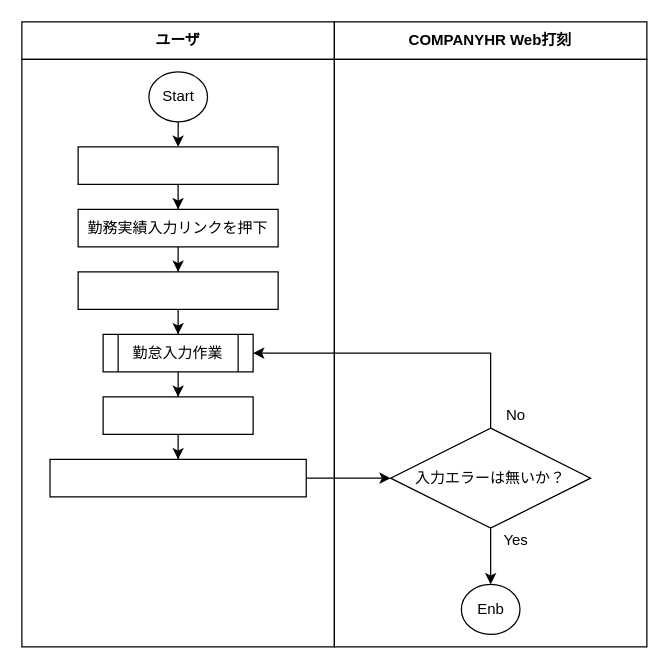
The diagram is 669 pixels wide and 669 high, and some of its shapes have lost their labels. The centre of each missing label's shape, as x and y in pixels:
"COMPANY HRへログイン" belongs at point (177, 165).
"「入力完了」or「保存」ボタン押下" belongs at point (177, 477).
"「次へ」ボタン押下" belongs at point (177, 415).
"「詳細」ボタンを押下" belongs at point (177, 290).
